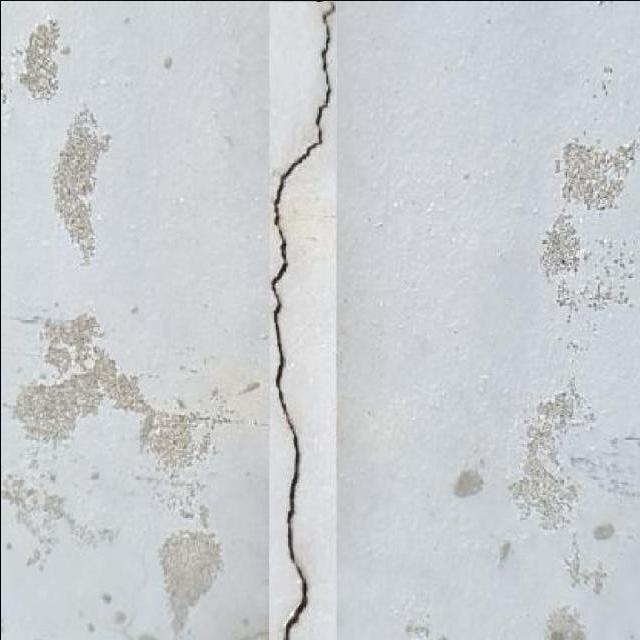crack: (267, 1, 335, 638)
